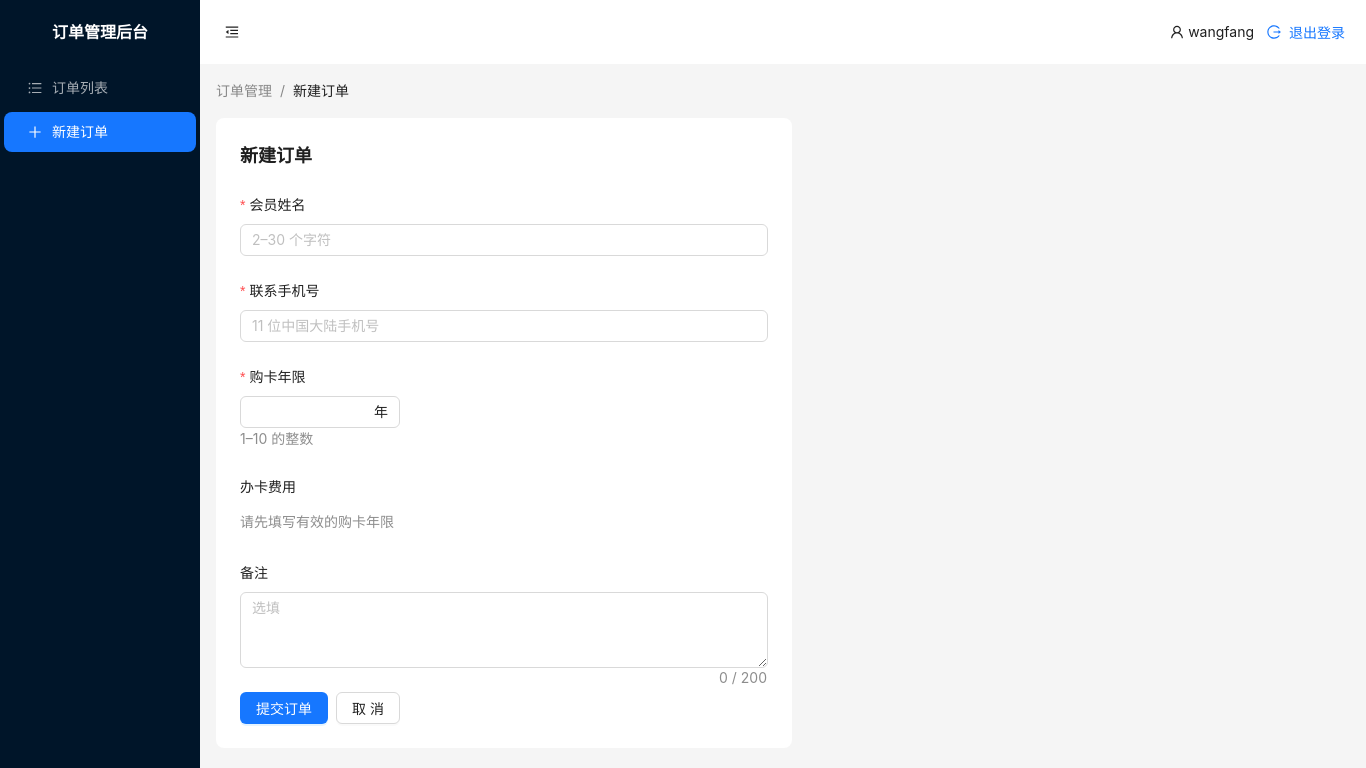
it: 会员姓名 › 31 个字符的外籍姓名
Type "Maximilian Alexander Richardson" into the field labelled "会员姓名" at (504, 240), box [240,224,768,256]
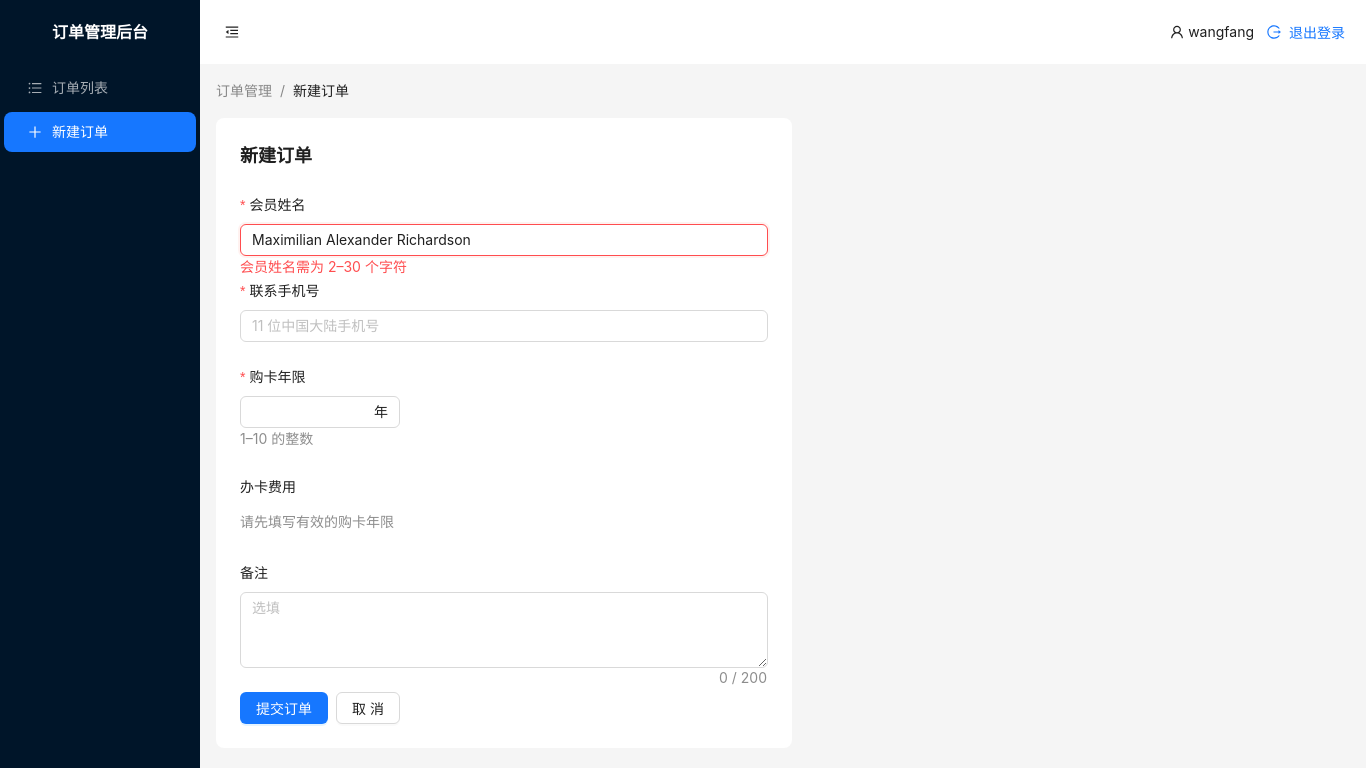
Result: the text "会员姓名需为 2–30 个字符" is shown at [240,258,407,275]
